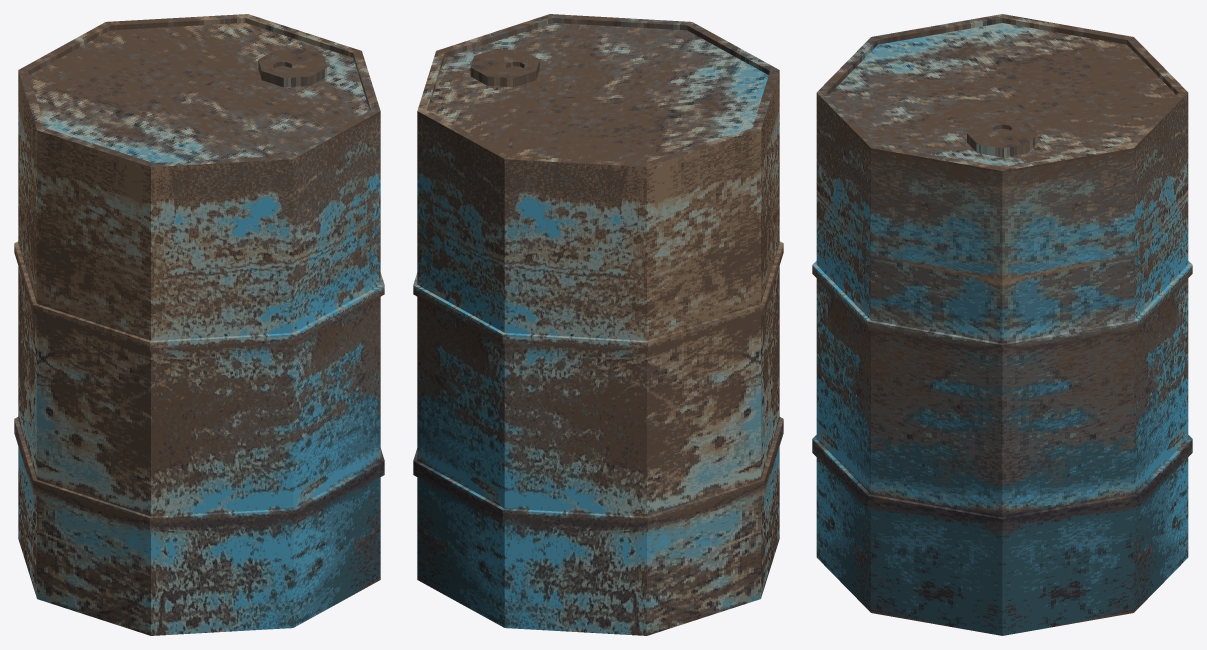
The model's file is barrel-1.glb.
3 views of the same model, side by side, from view 1: azimuth 30°, elevation 25°; view 2: azimuth 150°, elevation 25°; view 3: azimuth 270°, elevation 25° (orthographic).
Visible parts, largest first — view 1: main-col; view 2: main-col; view 3: main-col.
Part boxes in pixels (box(x1,y1,x2,y2)): main-col: box(14, 14, 384, 635); main-col: box(413, 14, 783, 635); main-col: box(812, 14, 1192, 635).
Bounding box in the file's own units: 1.14 × 1.55 × 1.14.
1 material, 1 textured.
